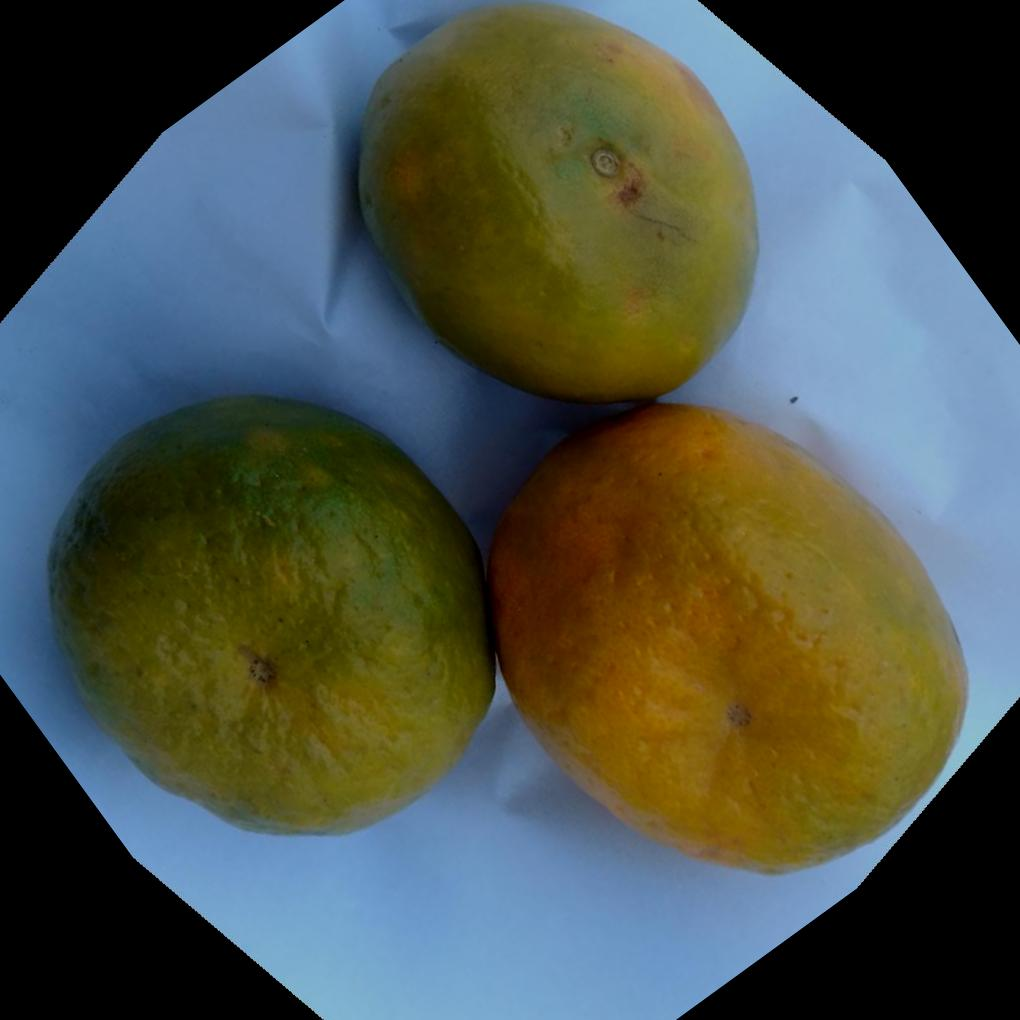FreshGuava: (42, 1, 968, 878)
